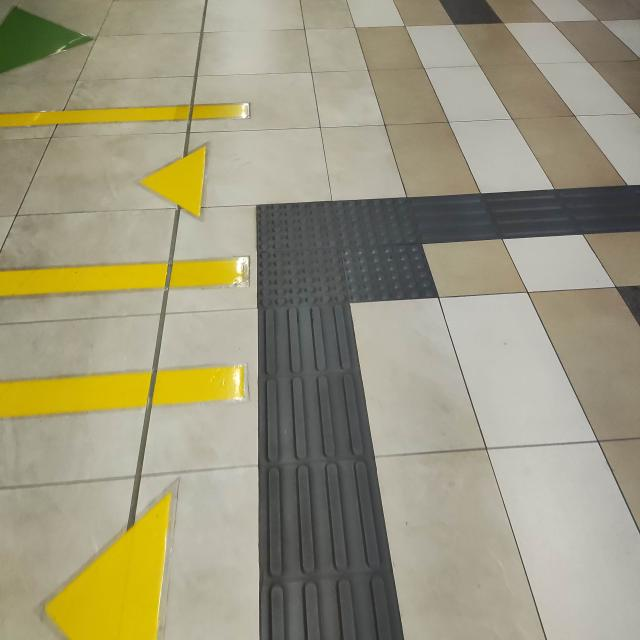kanan: (216, 153, 568, 350)
